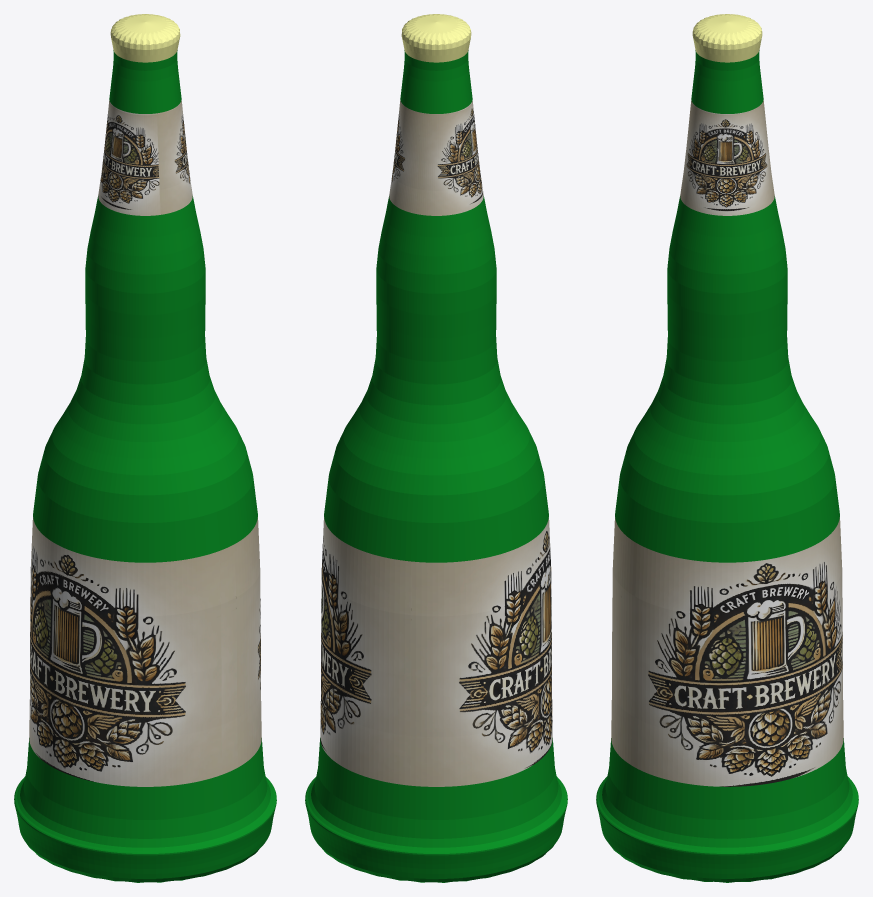
Rendered from bear2.fbx.
The picture shows the model from 3 angles, left to right: view 1: azimuth 30°, elevation 25°; view 2: azimuth 150°, elevation 25°; view 3: azimuth 270°, elevation 25°; orthographic projection.
Parts seen in each view (by area): view 1: Cylinder; view 2: Cylinder; view 3: Cylinder.
Part boxes in pixels (<box>): Cylinder: <box>14,14,276,882</box>; Cylinder: <box>305,14,567,882</box>; Cylinder: <box>596,14,858,882</box>.
Bounding box in the file's own units: 193 × 663 × 193.
Materials: 3 (1 with a texture image).
